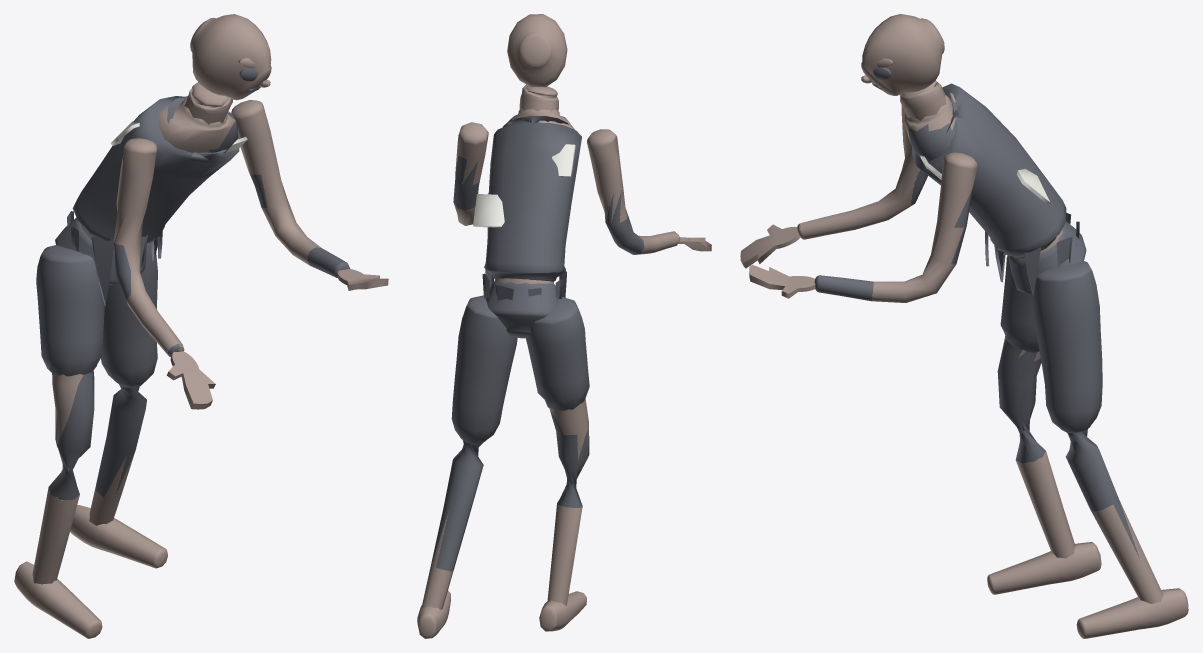
The model's file is undead-horde-and-infected-variants-ash-burnt-husk-infe-6ddf10d4__12006.glb.
3 renders of one model, left to right at view 1: azimuth 30°, elevation 25°; view 2: azimuth 150°, elevation 25°; view 3: azimuth 270°, elevation 25°, orthographic. The views are drawn at different scales.
Parts seen in each view (by area): view 1: ash-burnt-husk-infected; view 2: ash-burnt-husk-infected; view 3: ash-burnt-husk-infected.
Boxes of the visible parts, x1,y1,x2,y2 form: ash-burnt-husk-infected: (14,14,388,638); ash-burnt-husk-infected: (417,14,711,638); ash-burnt-husk-infected: (740,14,1188,638).
Bounding box in the file's own units: 0.5701 × 1.56 × 1.02.
